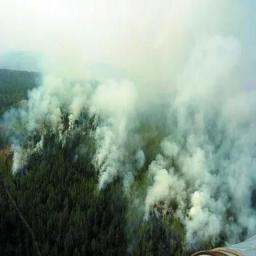Heavy smoke: (1, 1, 256, 256)
